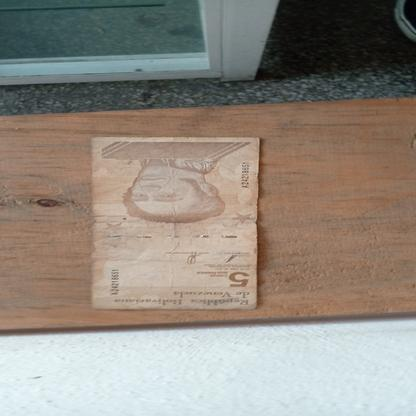five-front-vef: (91, 136, 260, 310)
